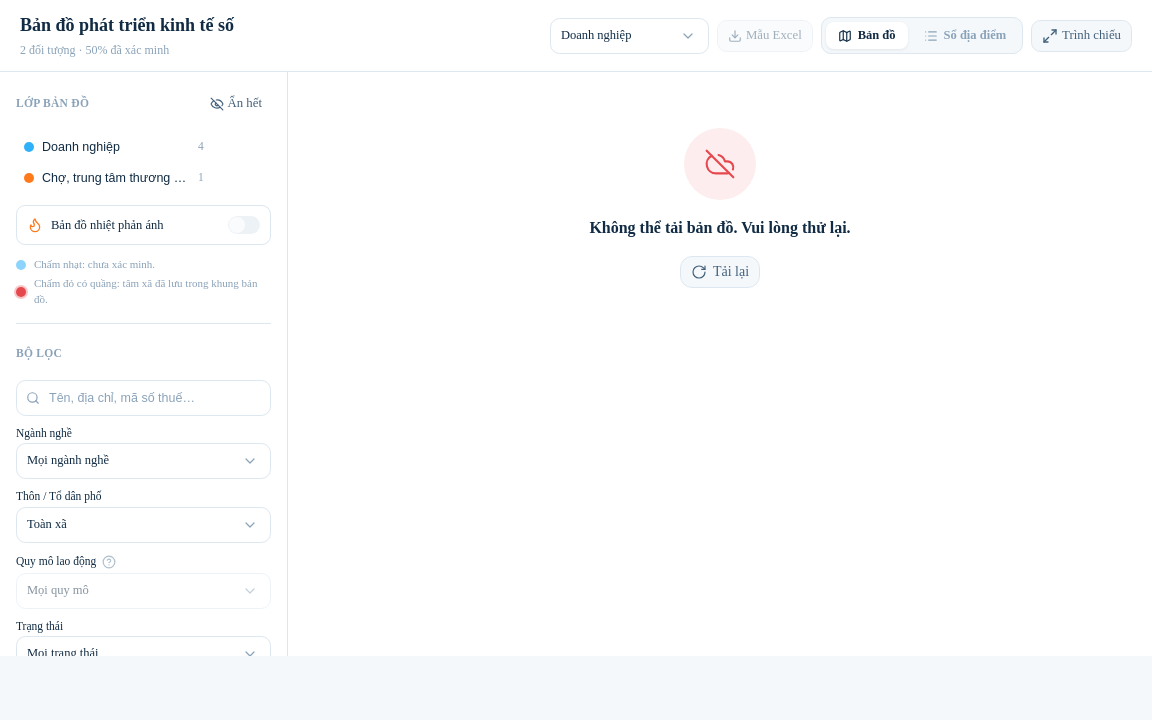
Sổ địa điểm › empty BECAUSE OF A FILTER: says so, not 'Chưa có địa điểm nào'
This screenshot has width=1152, height=720.
Click the button "Sổ địa điểm" at (965, 36), box [912,22,1018,49]
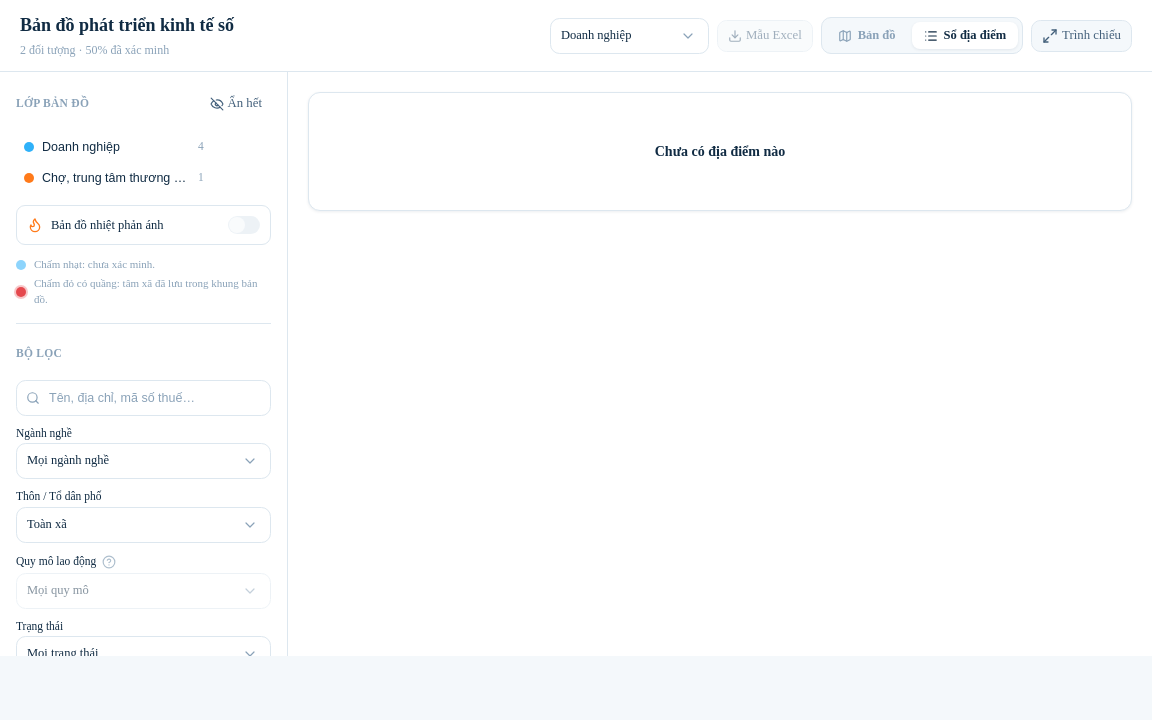
Select "Tạm ngừng" in the dropdown with id "map-status" at (144, 654), box [16,636,271,672]
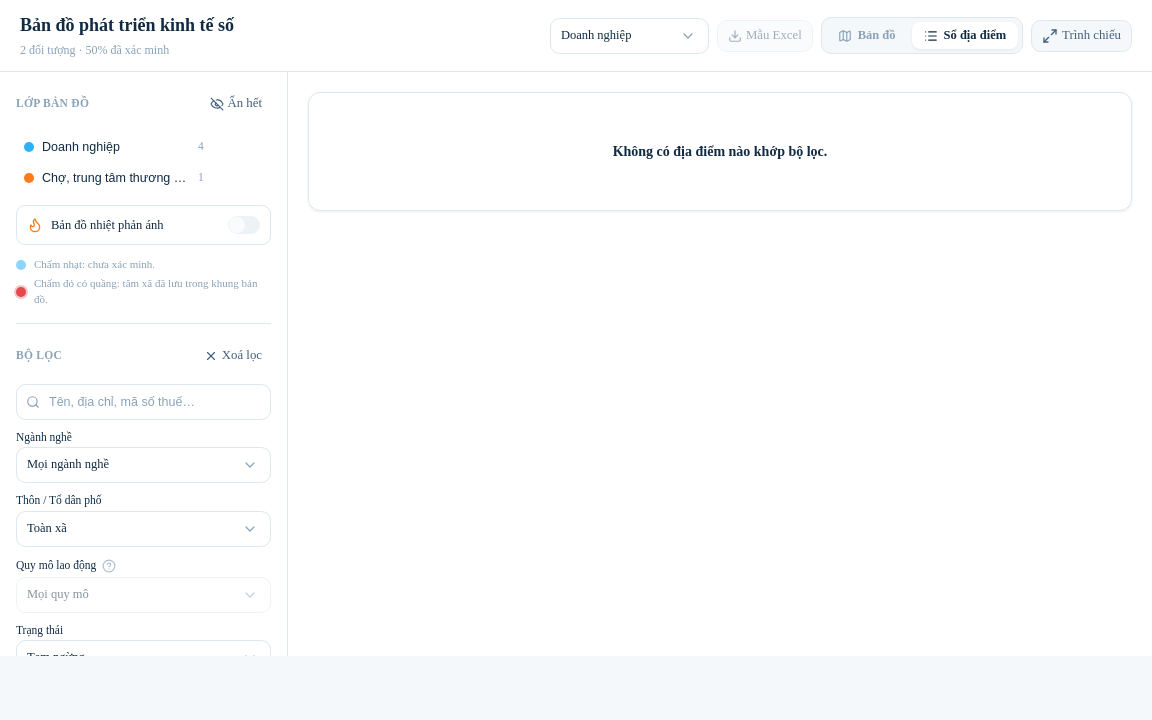
Check: the element showing "Không có địa điểm nào khớp bộ lọc." is shown, box [308,92,1132,211]
Check: the text "Chưa có địa điểm nào" is gone
